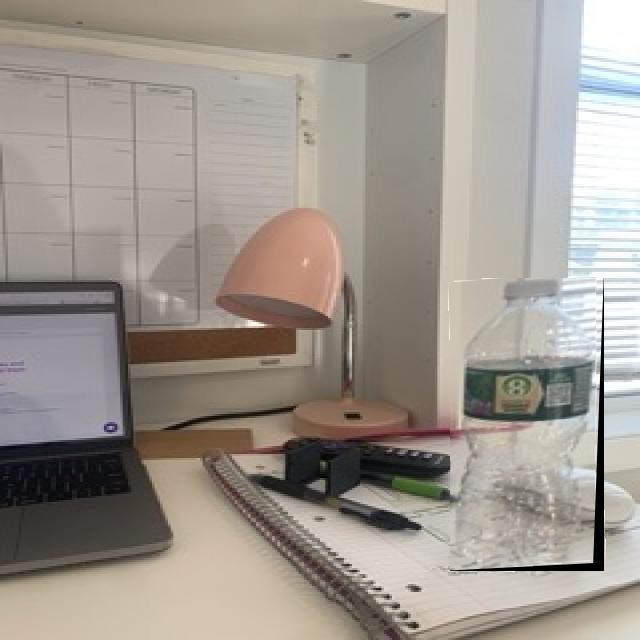water_bottle: (450, 278, 604, 571)
